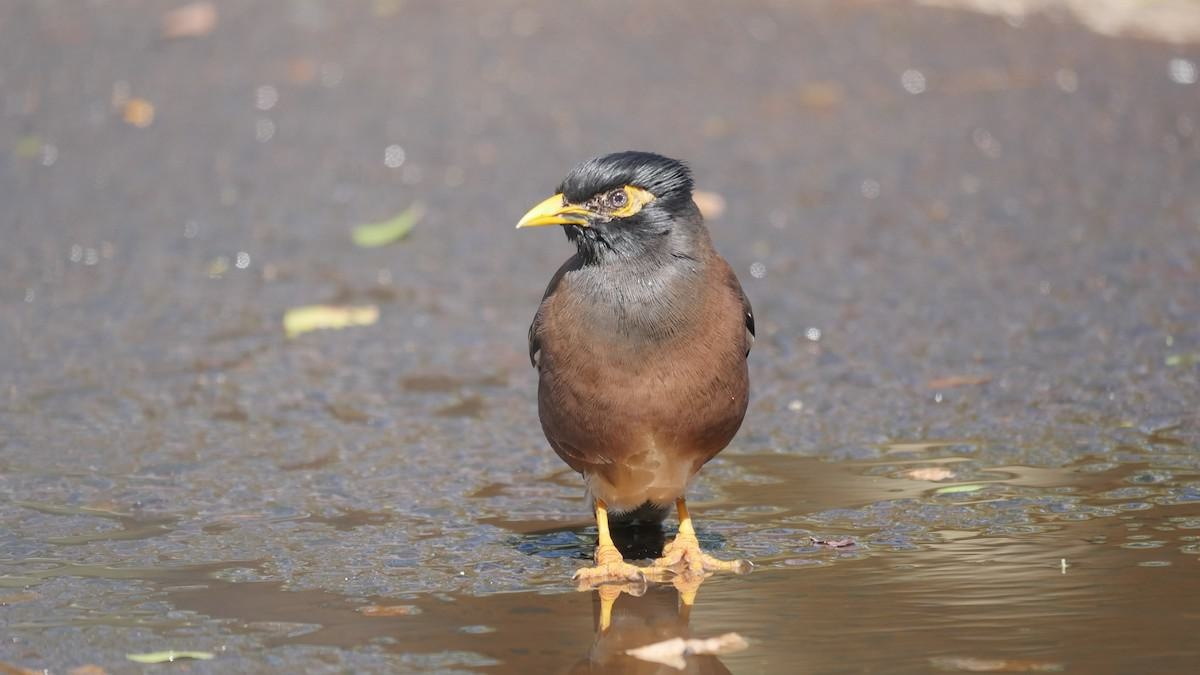myna: (519, 133, 754, 619)
